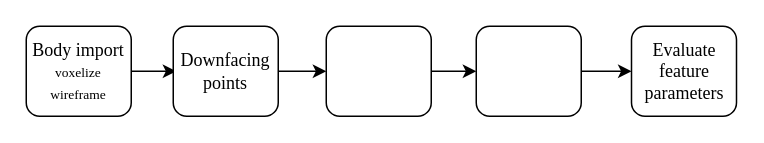
This 764x143 diagram has some shape labels left out. The centre of each missing label's shape, as x and y in pixels:
Cluster points to features: [528,70]
Filter wireframe points: [378,70]
